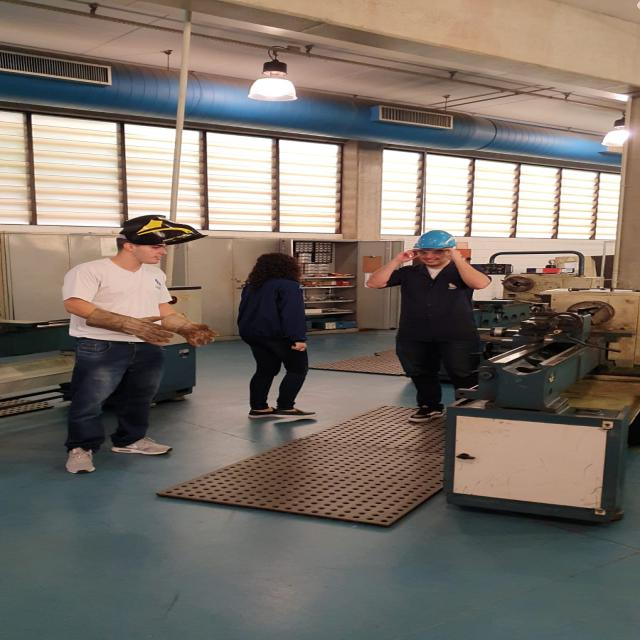oculos-epi: (406, 249, 466, 258)
sem_oculos: (111, 240, 170, 253)
